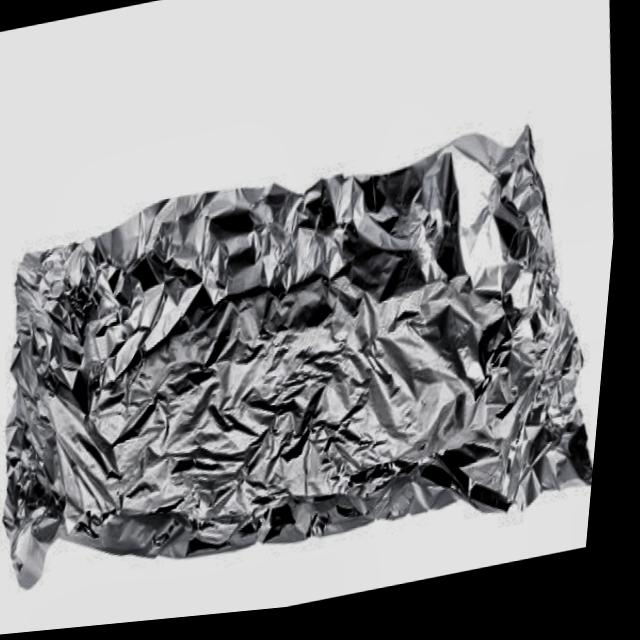Foil: (0, 92, 630, 639)
